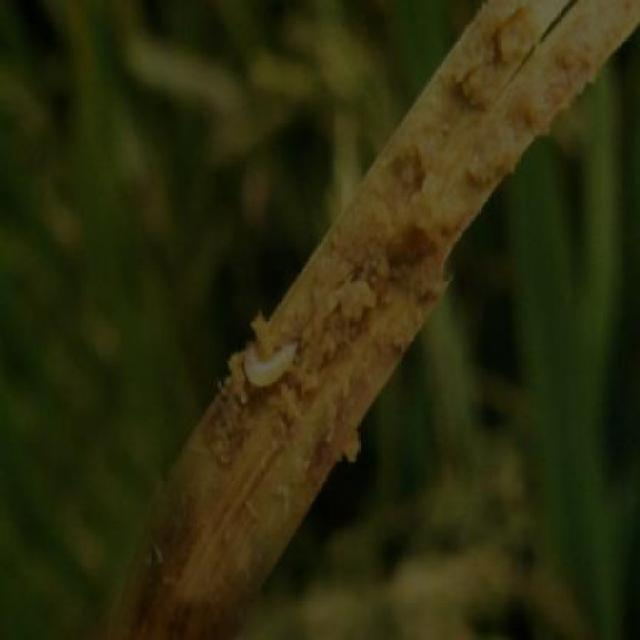whorl-maggot: (242, 328, 309, 394)
